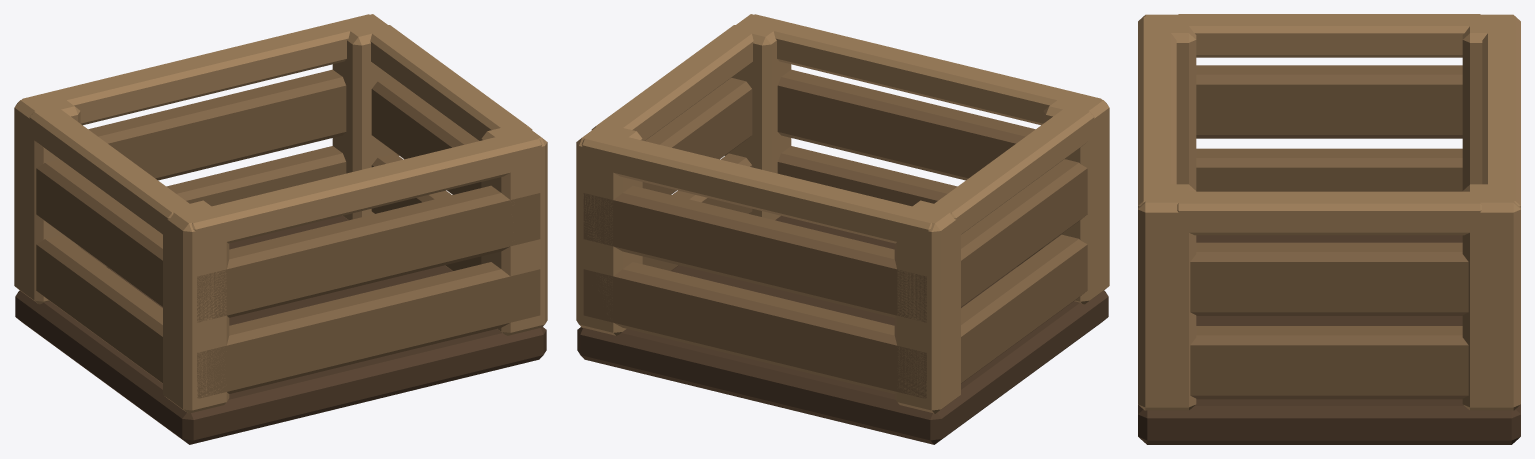
Rendered from materials_crate.glb.
3 views of the same model, side by side, from view 1: azimuth 30°, elevation 25°; view 2: azimuth 150°, elevation 25°; view 3: azimuth 270°, elevation 25° (orthographic). The views are drawn at different scales.
Visible parts, largest first — view 1: materials_crate; view 2: materials_crate; view 3: materials_crate.
Boxes of the visible parts, box(x1,y1,x2,y2) form: materials_crate: box(14, 14, 547, 444); materials_crate: box(576, 14, 1109, 444); materials_crate: box(1138, 14, 1520, 444).
Bounding box in the file's own units: 0.75 × 0.4375 × 0.625.
